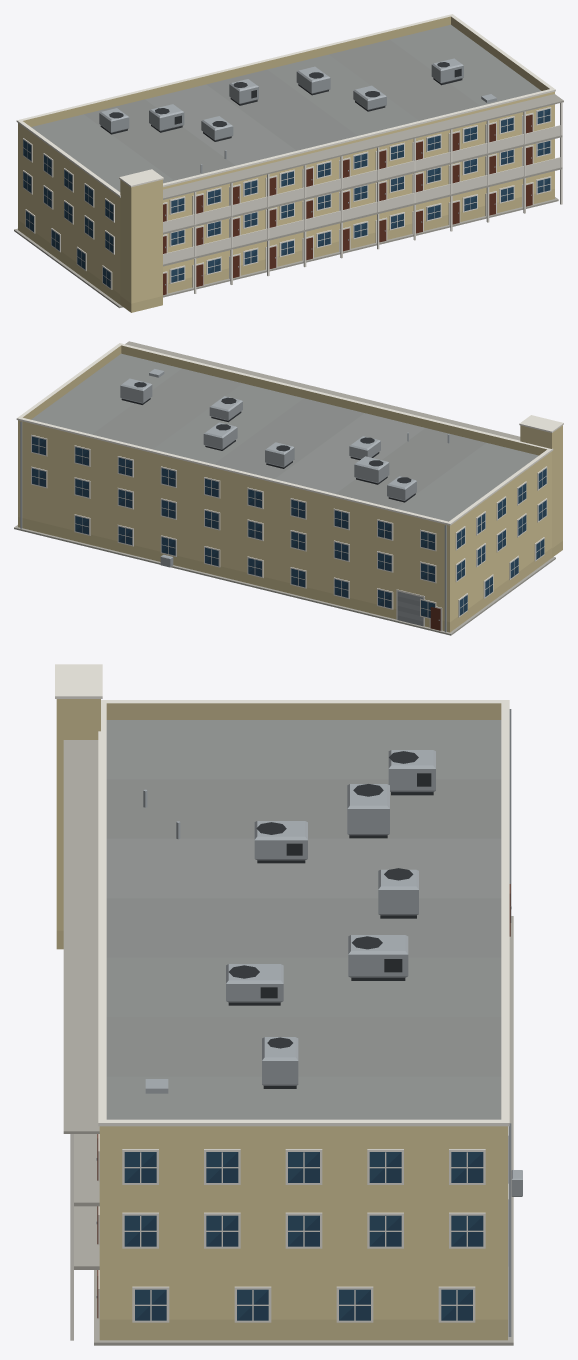
Rendered from lodge_44x18_3f.glb.
3 views of the same model, one above another, from view 1: azimuth 30°, elevation 25°; view 2: azimuth 150°, elevation 25°; view 3: azimuth 270°, elevation 25° (orthographic). The views are drawn at different scales.
Parts seen in each view (by area): view 1: block; view 2: block; view 3: block.
Boxes of the visible parts, x1,y1,x2,y2 form: block: (14, 14, 563, 312); block: (14, 341, 563, 635); block: (55, 664, 522, 1345).
Bounding box in the file's own units: 44.5 × 12.49 × 20.62.
